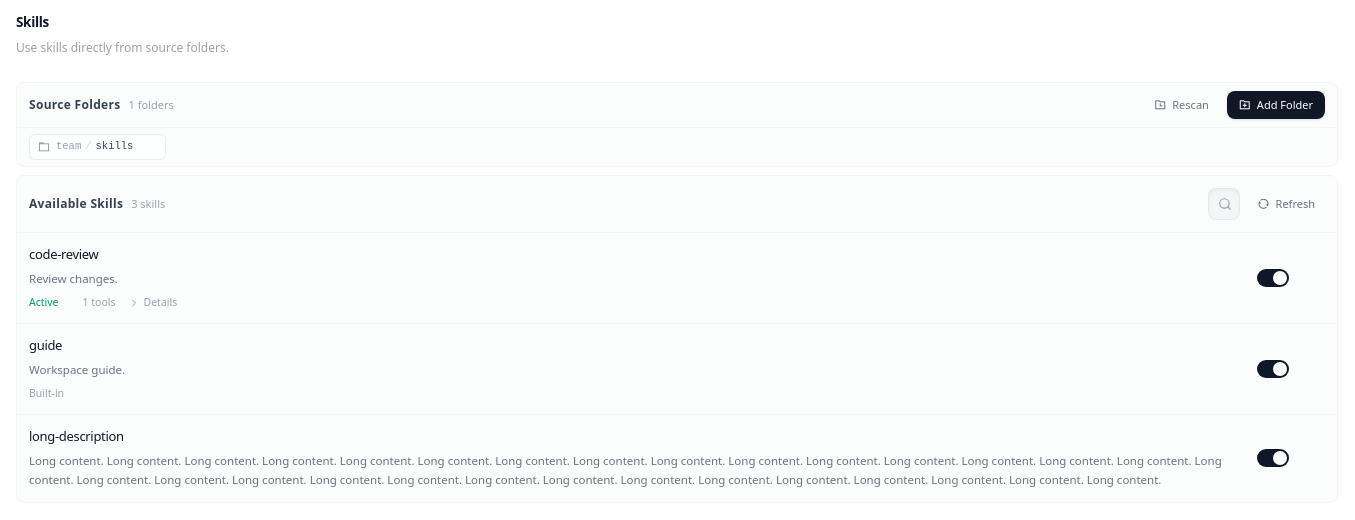
Test: keeps details collapsed, shows current-chat state, and filters hidden metadata
expect the text titled "Active in the current chat" is shown: met, box [29,295,58,311]
Replace the text in the field with placeholder "Search available skills" with "unique-tool": (1266, 204) [1208,188,1325,220]
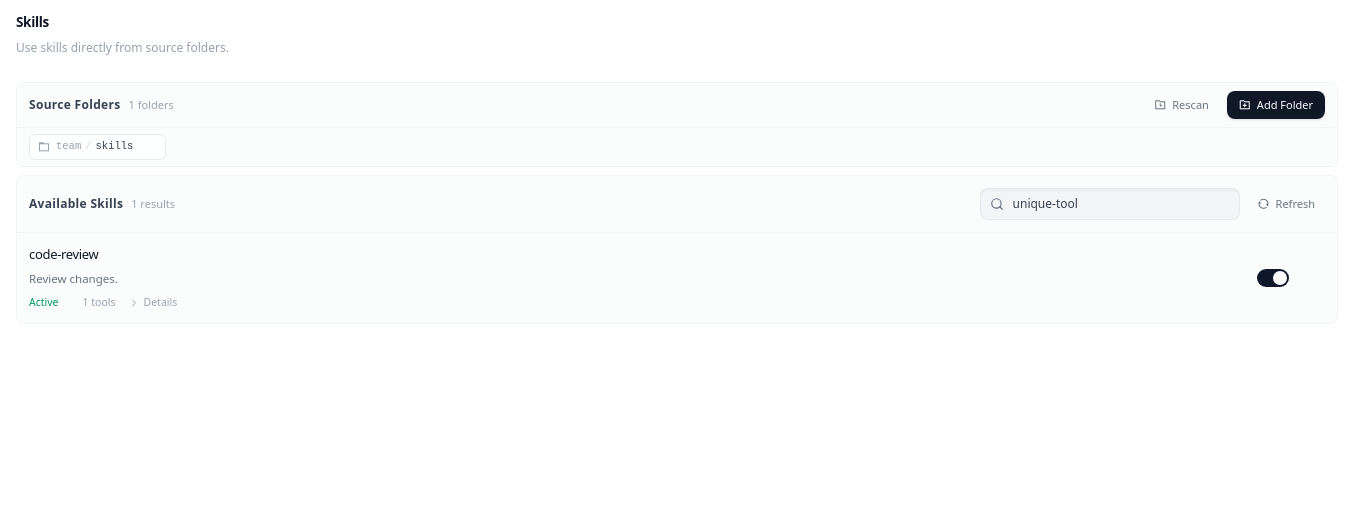
expect the text "1 results" is shown: met, box [131,196,175,212]
expect the text "Workspace guide." is gone: met
